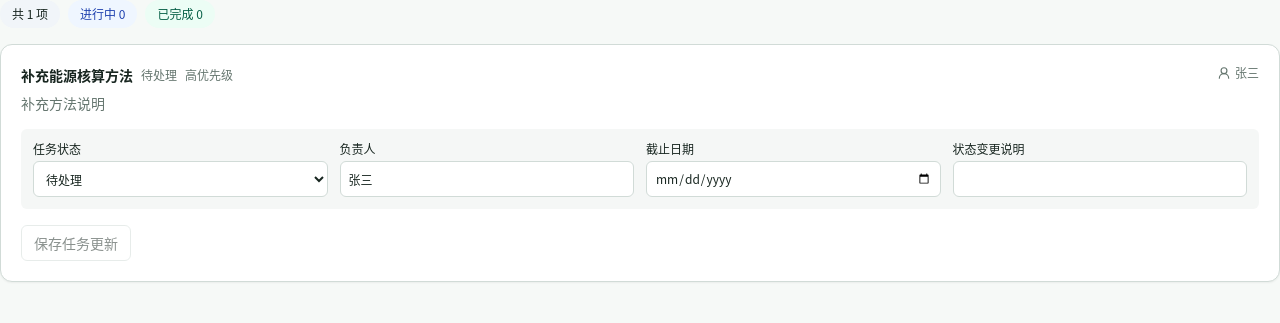
Test: ActionList › keeps the unsaved note when an update fails
The width and height of the screenshot is (1280, 323).
expect the heading "补充能源核算方法" is shown: met, box [21,65,133,85]
Select "已完成" in the dropdown named "任务状态：补充能源核算方法" at (180, 179), box [33,161,328,197]
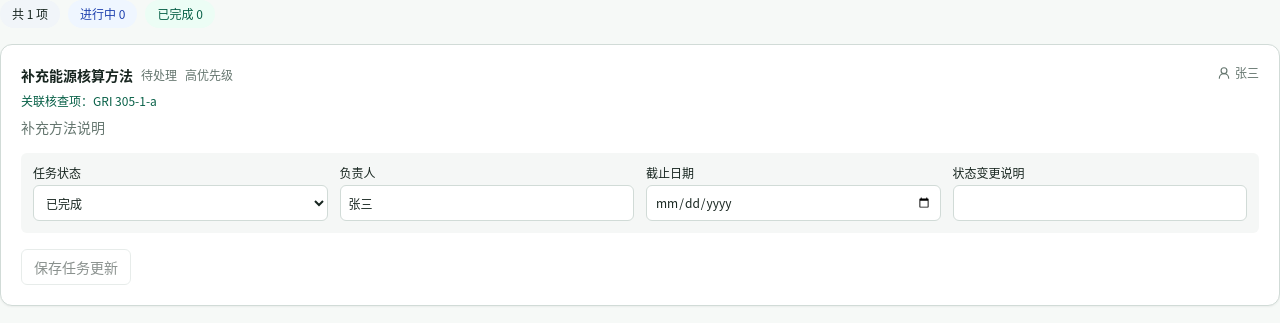
Type "保留这段说明" into the field named "状态变更说明：补充能源核算方法" at (1100, 203), box [952,185,1247,221]
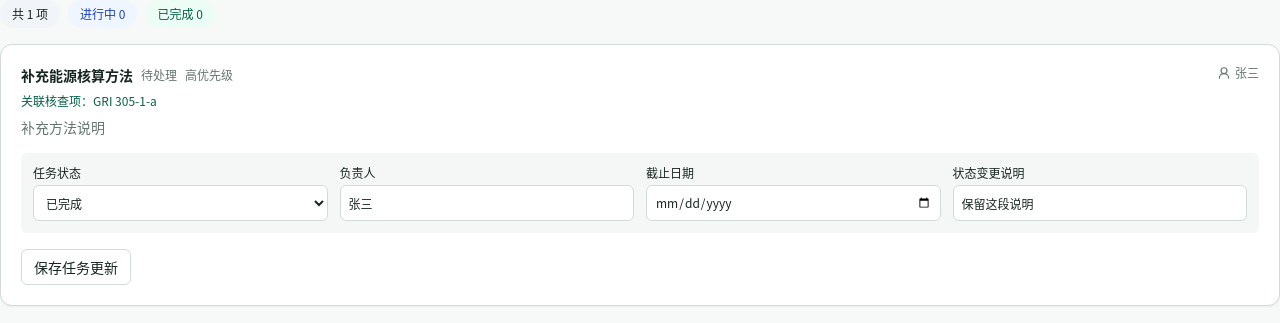
Click the button "保存任务更新" at (76, 267), box [21,249,131,285]
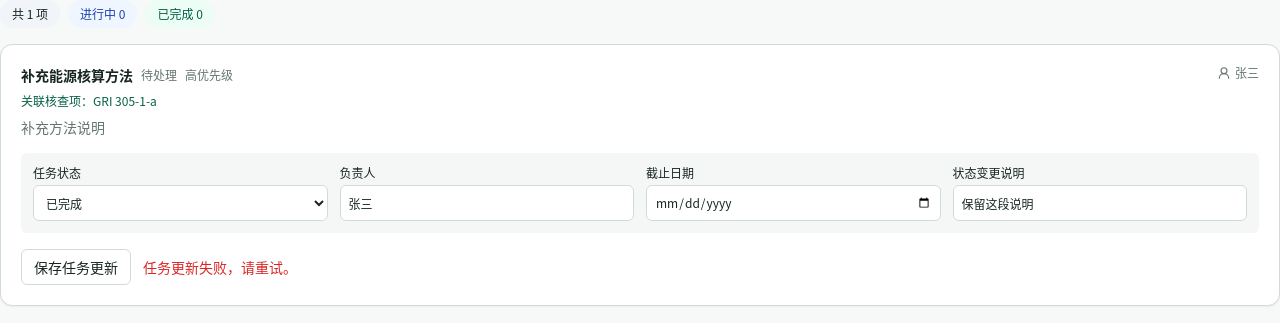
expect the text "任务更新失败，请重试。" is shown: met, box [143,257,297,277]
